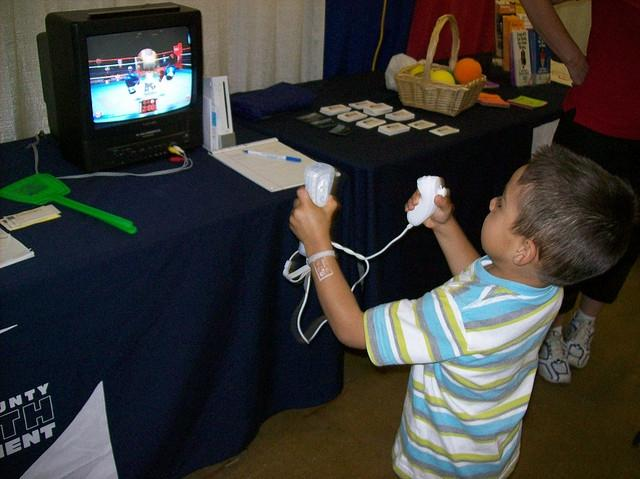orange: (454, 58, 482, 84)
